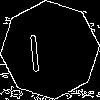I: (25, 25, 43, 72)
